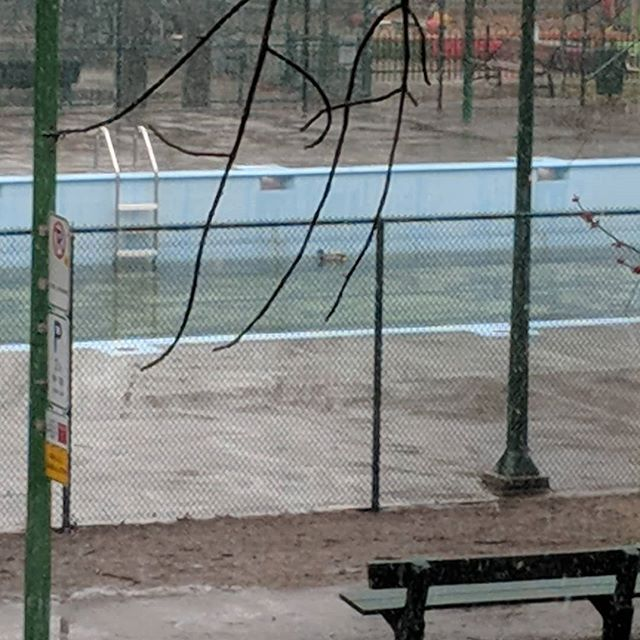bench: (345, 527, 640, 640)
pool: (1, 143, 640, 343)
sign: (39, 213, 80, 494)
